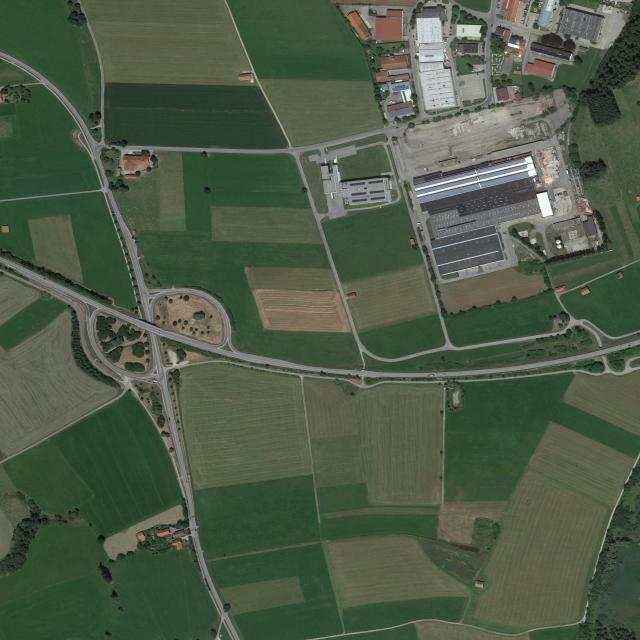large-vehicle: (427, 375, 435, 377), (512, 86, 518, 87)
small-vehicle: (444, 54, 448, 58), (443, 53, 447, 57), (389, 100, 393, 104), (424, 167, 427, 172), (417, 222, 421, 225), (461, 53, 466, 55), (445, 56, 448, 59), (471, 70, 474, 73), (508, 26, 510, 30), (444, 48, 446, 52), (554, 7, 558, 9), (523, 9, 527, 11), (524, 8, 528, 10), (450, 28, 453, 30), (449, 34, 452, 36), (449, 26, 452, 28), (497, 3, 500, 5), (526, 4, 529, 6), (556, 22, 559, 24), (554, 29, 557, 31), (510, 27, 512, 30), (521, 20, 524, 22), (522, 15, 525, 17), (420, 230, 423, 232), (560, 192, 562, 195), (557, 193, 559, 196), (556, 194, 558, 197), (555, 194, 557, 197), (455, 164, 458, 166), (516, 89, 519, 91), (477, 72, 479, 75), (450, 31, 452, 33), (512, 91, 514, 93), (485, 61, 486, 65), (491, 24, 492, 27), (443, 375, 446, 376), (409, 30, 410, 33), (497, 5, 500, 6), (525, 7, 528, 8), (461, 374, 464, 375), (559, 193, 560, 196), (450, 33, 452, 34), (459, 161, 460, 163), (517, 91, 519, 92), (481, 45, 482, 47), (493, 87, 494, 89)
storage-tank: (555, 239, 561, 244), (557, 244, 562, 249)
